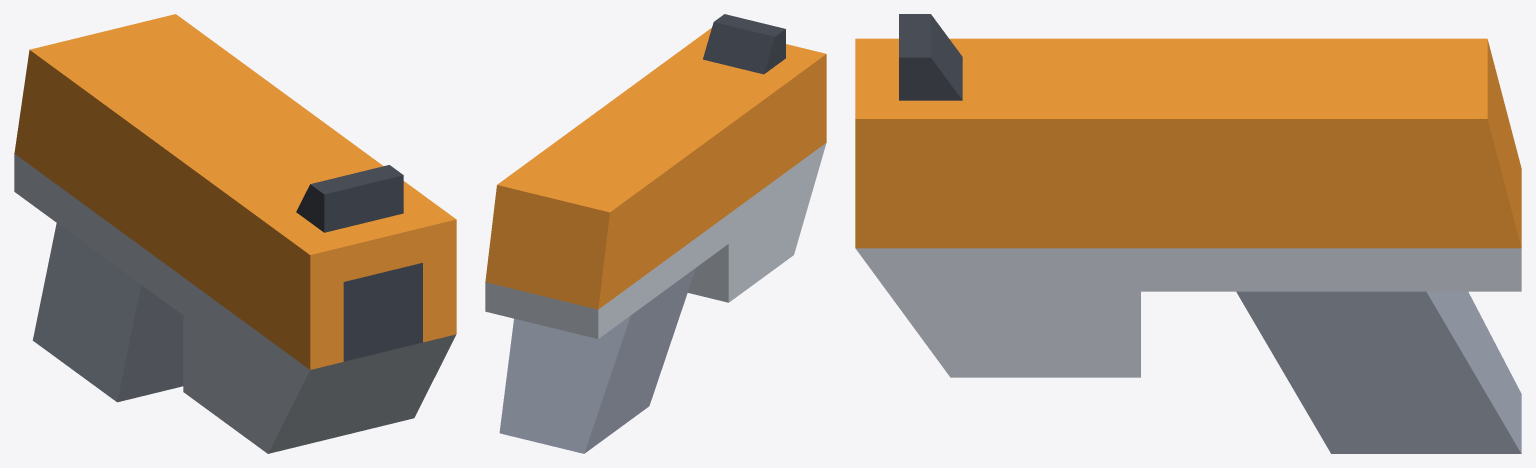
File: weapon_gun.glb
The picture shows the model from 3 angles, left to right: view 1: azimuth 30°, elevation 25°; view 2: azimuth 150°, elevation 25°; view 3: azimuth 270°, elevation 25°; orthographic projection. The views are drawn at different scales.
Parts seen in each view (by area): view 1: weapon_gun; view 2: weapon_gun; view 3: weapon_gun.
Boxes of the visible parts, box(x1,y1,x2,y2) form: weapon_gun: box(14, 14, 456, 453); weapon_gun: box(485, 14, 826, 453); weapon_gun: box(855, 14, 1521, 453).
Size of the model in its own units: 0.1 by 0.225 by 0.35.
